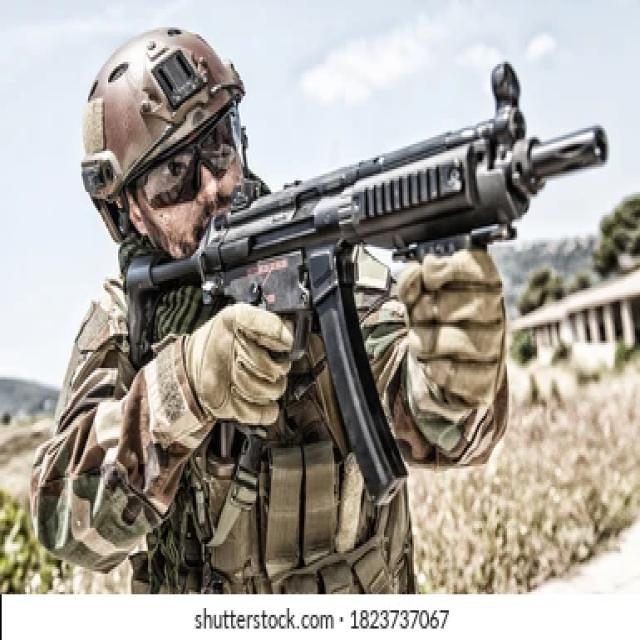soldier: (35, 10, 607, 590)
